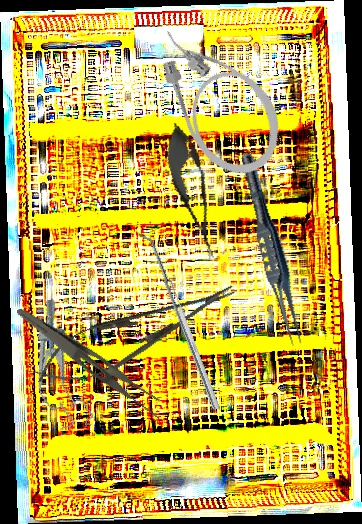Cannula: (141, 3, 298, 191)
Dressing Forceps: (5, 306, 173, 422)
Micro Scissor: (156, 118, 229, 265)
Needle Holder: (26, 265, 246, 402)
Spatula Surgical: (136, 227, 221, 414)
Speculum: (18, 296, 96, 436)
Tissue Forceps: (231, 150, 312, 351)
